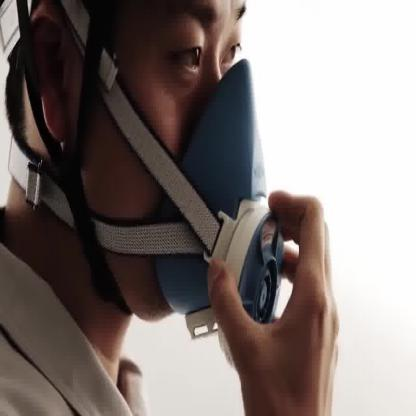mask: (148, 52, 289, 350)
